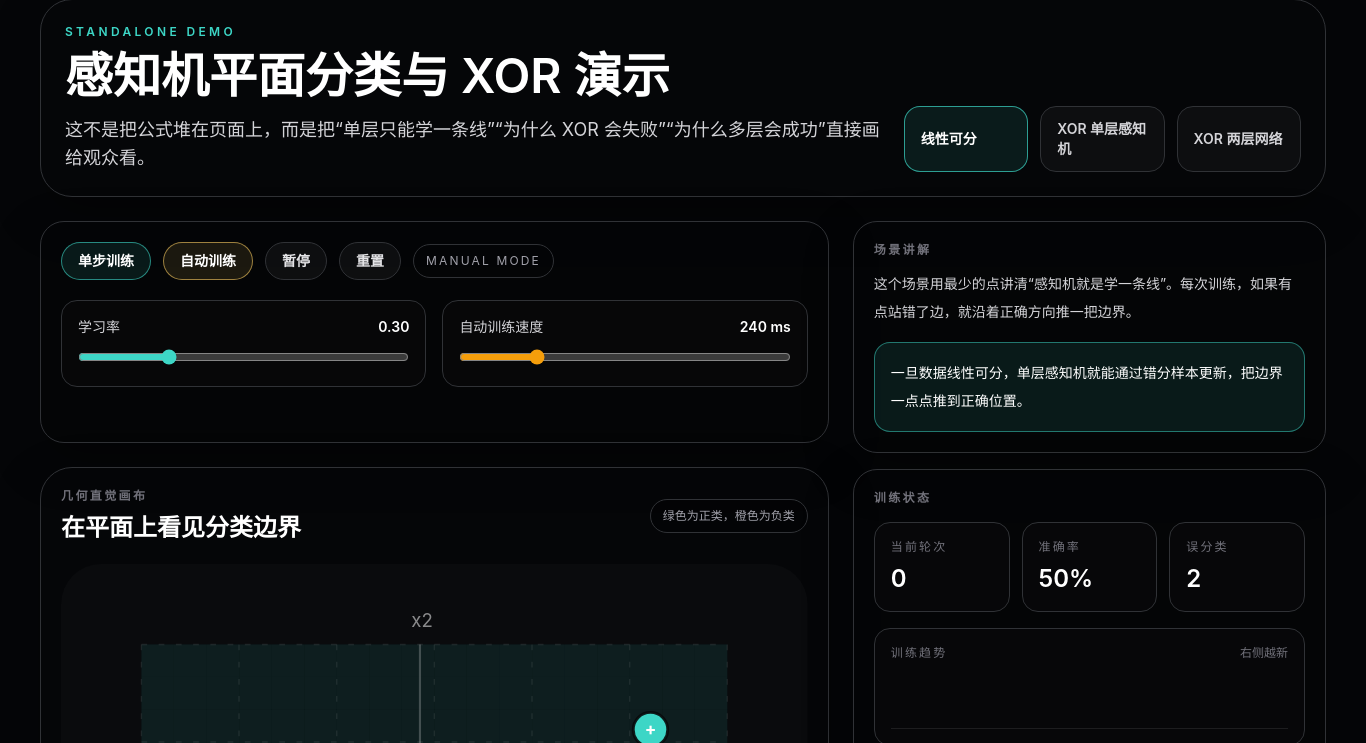
Test: PerceptronDemoPage › shows the active sample and a training log after stepping once
Click the button "单步训练".
click(106, 261)  # box [61,242,151,280]
(page scrolled)
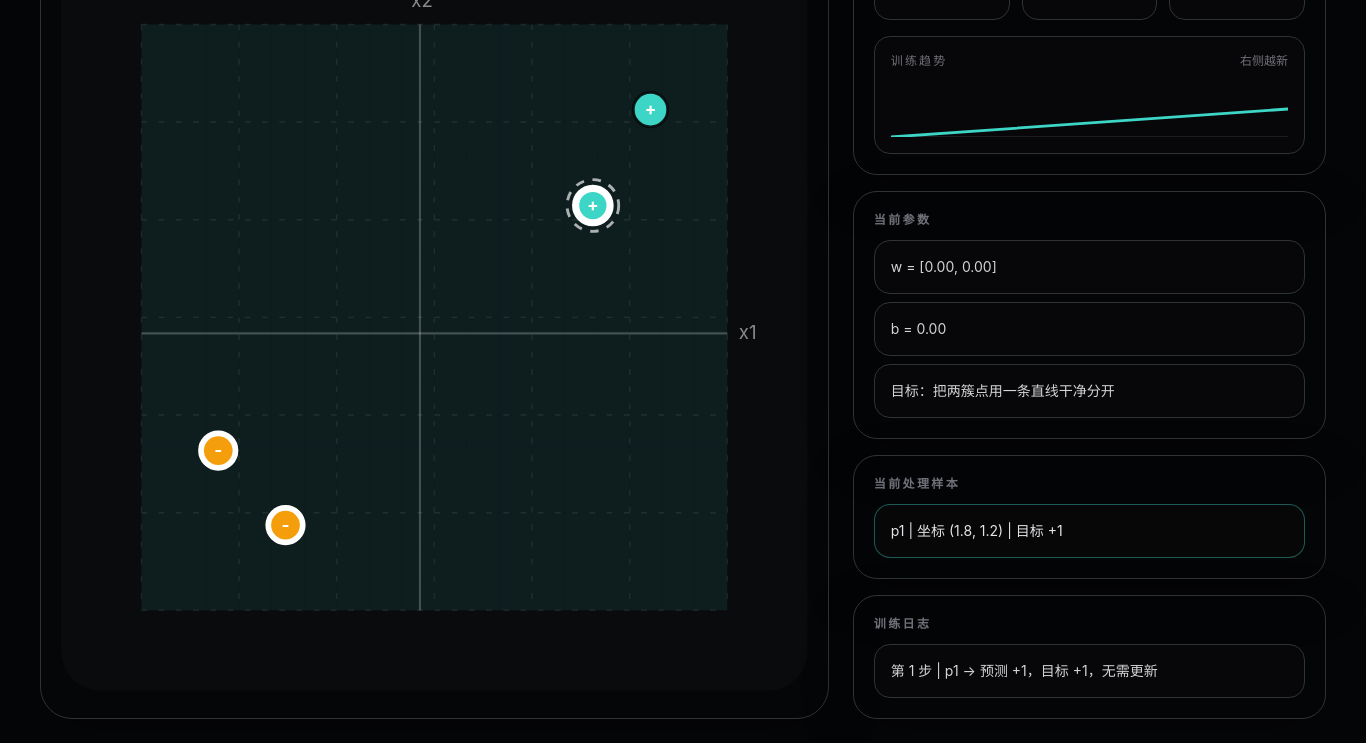
Expected: the text "当前处理样本" is shown, [874,476,960,491]
Now the text "第 1 步 | p1 -> 预测 +1，目标 +1，无需更新" is shown, box [874,644,1305,698]
